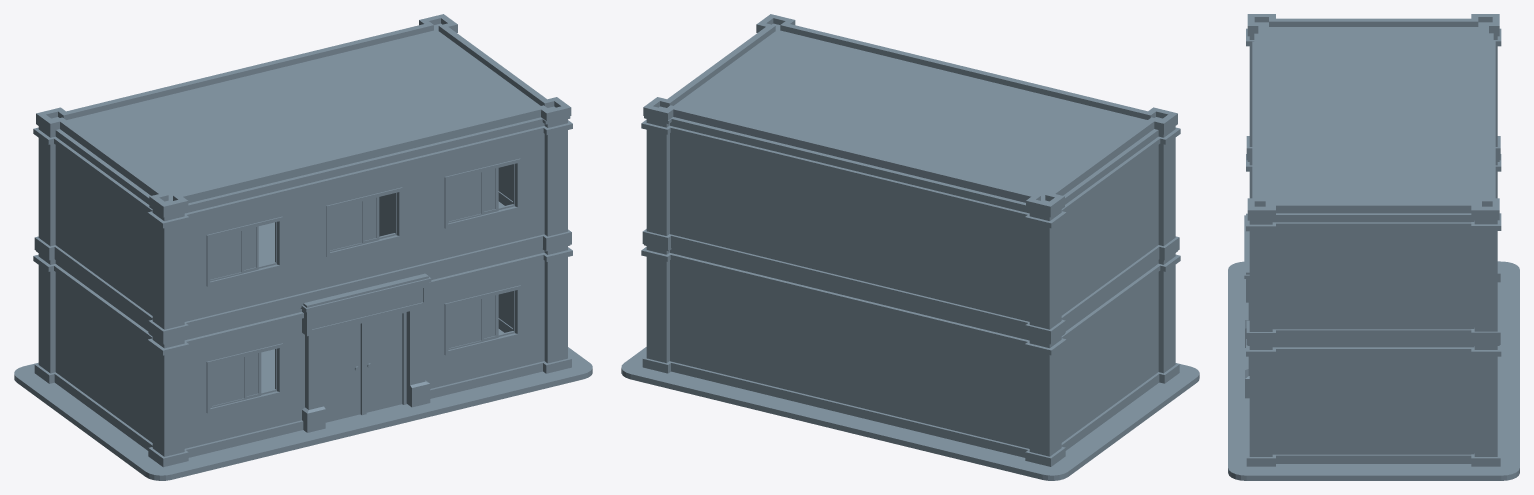
File: Office_Building.fbx
3 views of the same model, side by side, from view 1: azimuth 30°, elevation 25°; view 2: azimuth 150°, elevation 25°; view 3: azimuth 270°, elevation 25° (orthographic).
Parts seen in each view (by area): view 1: Wall (×2), Office_Roof, Level1_Base, Level2_Base, Door2, Level2_Side_Wall, Level1_Side_Wall, Door1, Glass2 (×2), Glass6 (×2), Glass5 (×2), Glass3 (+3 smaller); view 2: Level1_Base, Level2_Base, Office_Roof; view 3: Office_Roof, Level2_Side_Wall, Level1_Side_Wall, Level1_Base, Level2_Base, Wall (×2).
Part boxes in pixels (box(x1,y1,x2,y2)): Wall (×2): box(184, 117, 545, 457); Office_Roof: box(36, 14, 571, 215); Level1_Base: box(14, 251, 592, 480); Level2_Base: box(33, 121, 504, 343); Door2: box(363, 312, 406, 414); Level2_Side_Wall: box(498, 115, 572, 250); Level1_Side_Wall: box(498, 245, 572, 373); Door1: box(324, 322, 363, 422); Glass2 (×2): box(210, 171, 483, 408); Glass6 (×2): box(244, 226, 483, 349); Glass5 (×2): box(210, 230, 498, 341); Glass3: box(330, 200, 364, 252); Level1_Base: box(621, 244, 1199, 480); Level2_Base: box(641, 116, 1180, 343); Office_Roof: box(643, 14, 1177, 215); Office_Roof: box(1247, 14, 1499, 218); Level2_Side_Wall: box(1246, 213, 1474, 345); Level1_Side_Wall: box(1246, 339, 1474, 466); Level1_Base: box(1228, 154, 1519, 480); Level2_Base: box(1246, 28, 1501, 344); Wall (×2): box(1244, 33, 1258, 398).
Size of the model in its own units: 988 by 563 by 569.
